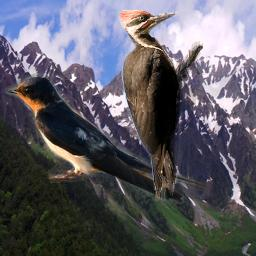Swallow: (2, 70, 211, 204)
Woodpecker: (117, 9, 203, 201)
